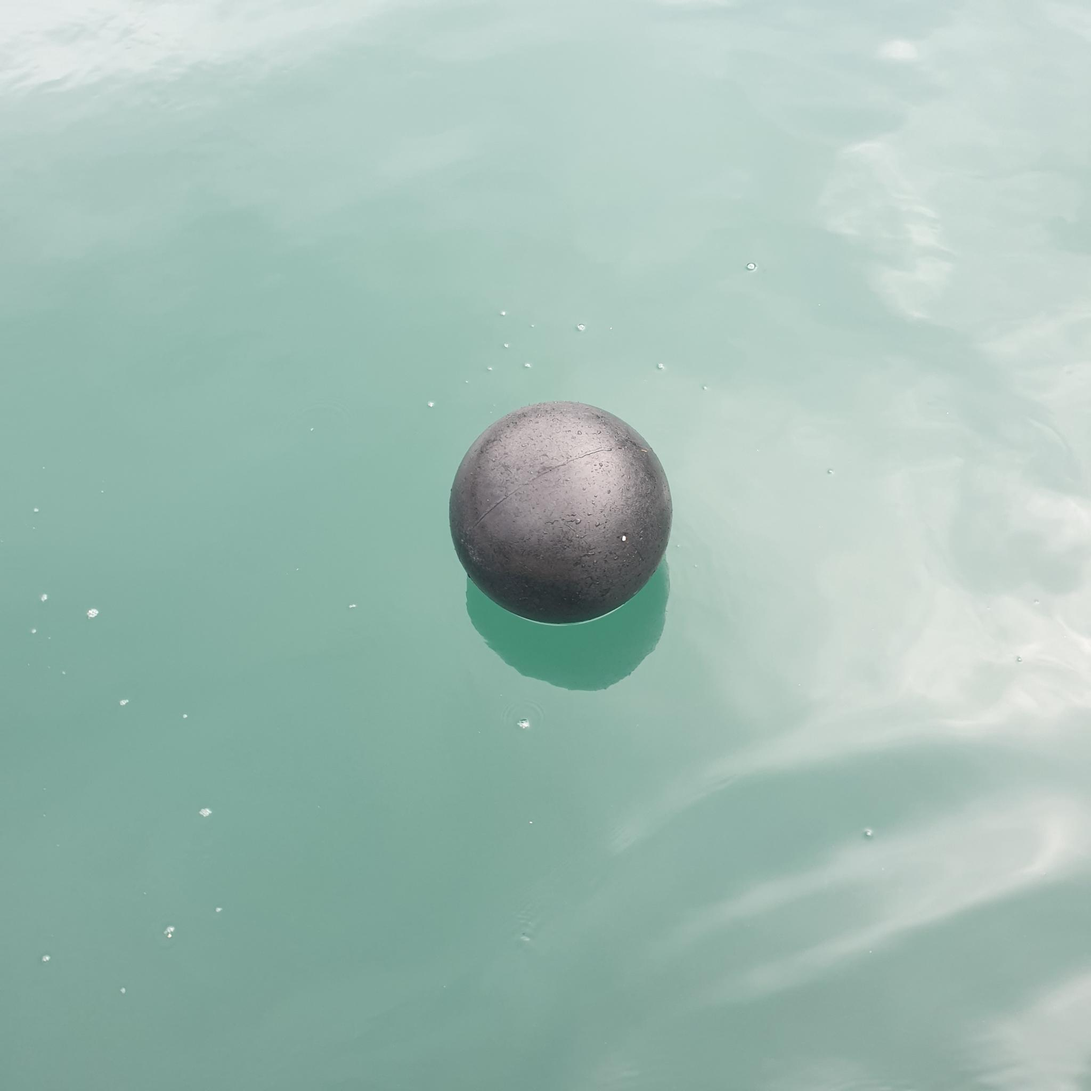sampah_terapung: (450, 402, 673, 626)
